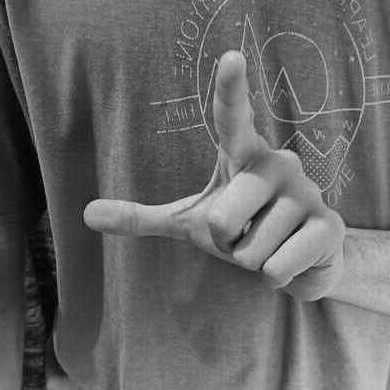L: (82, 50, 345, 302)
